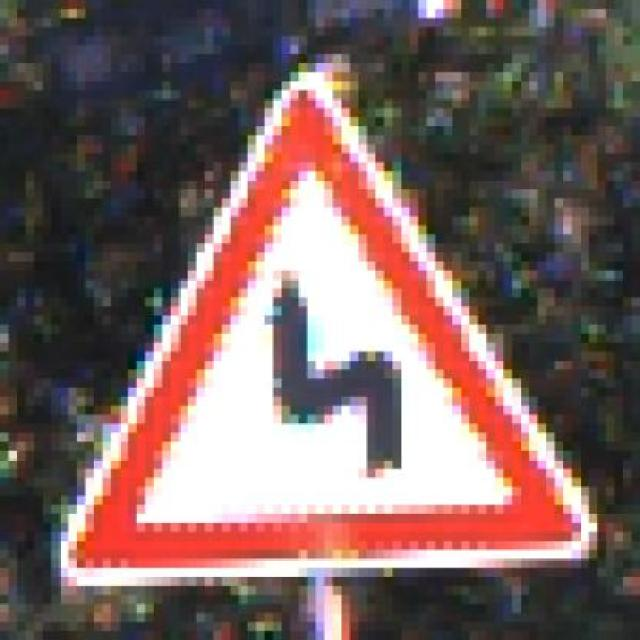Left Zig Zag Traffic: (51, 63, 614, 586)
